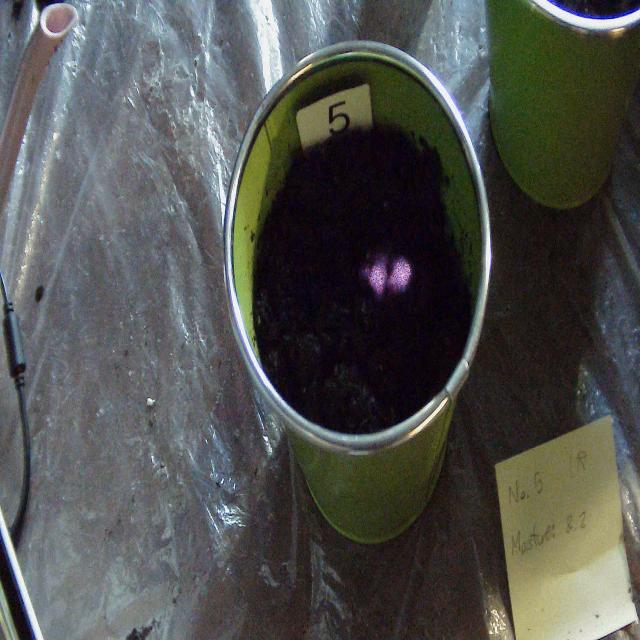soil-moisture-8.2: (360, 254, 413, 296)
